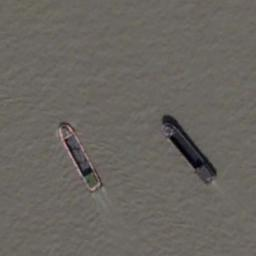boat: (160, 120, 218, 186), (57, 120, 103, 193)
